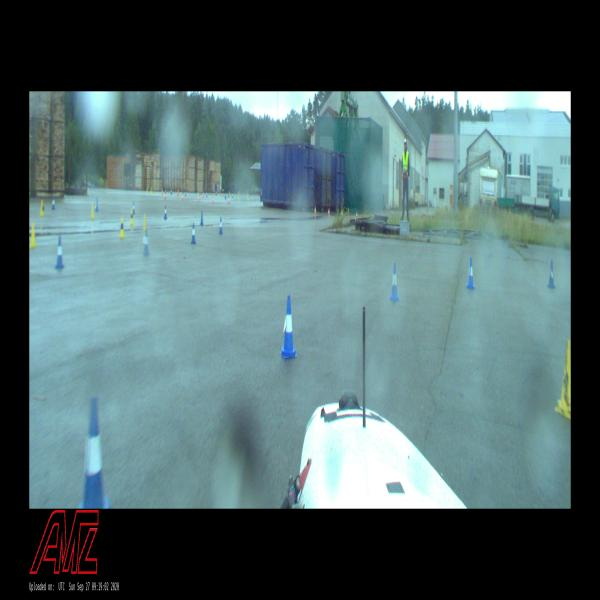blue_cone: (78, 401, 108, 508), (280, 297, 297, 358), (389, 262, 400, 302), (466, 256, 476, 290), (55, 236, 64, 269), (547, 260, 556, 290), (143, 228, 149, 255), (191, 223, 196, 244), (218, 217, 223, 235), (51, 195, 56, 211), (163, 206, 168, 218), (200, 211, 204, 226), (132, 201, 136, 215), (95, 197, 98, 213)
orange_cone: (314, 206, 316, 215), (341, 210, 343, 219), (328, 208, 329, 216)
yellow_cone: (554, 339, 571, 421), (29, 222, 37, 248), (118, 215, 125, 239), (39, 200, 45, 217), (90, 203, 95, 218), (130, 209, 134, 226), (143, 213, 146, 229)
